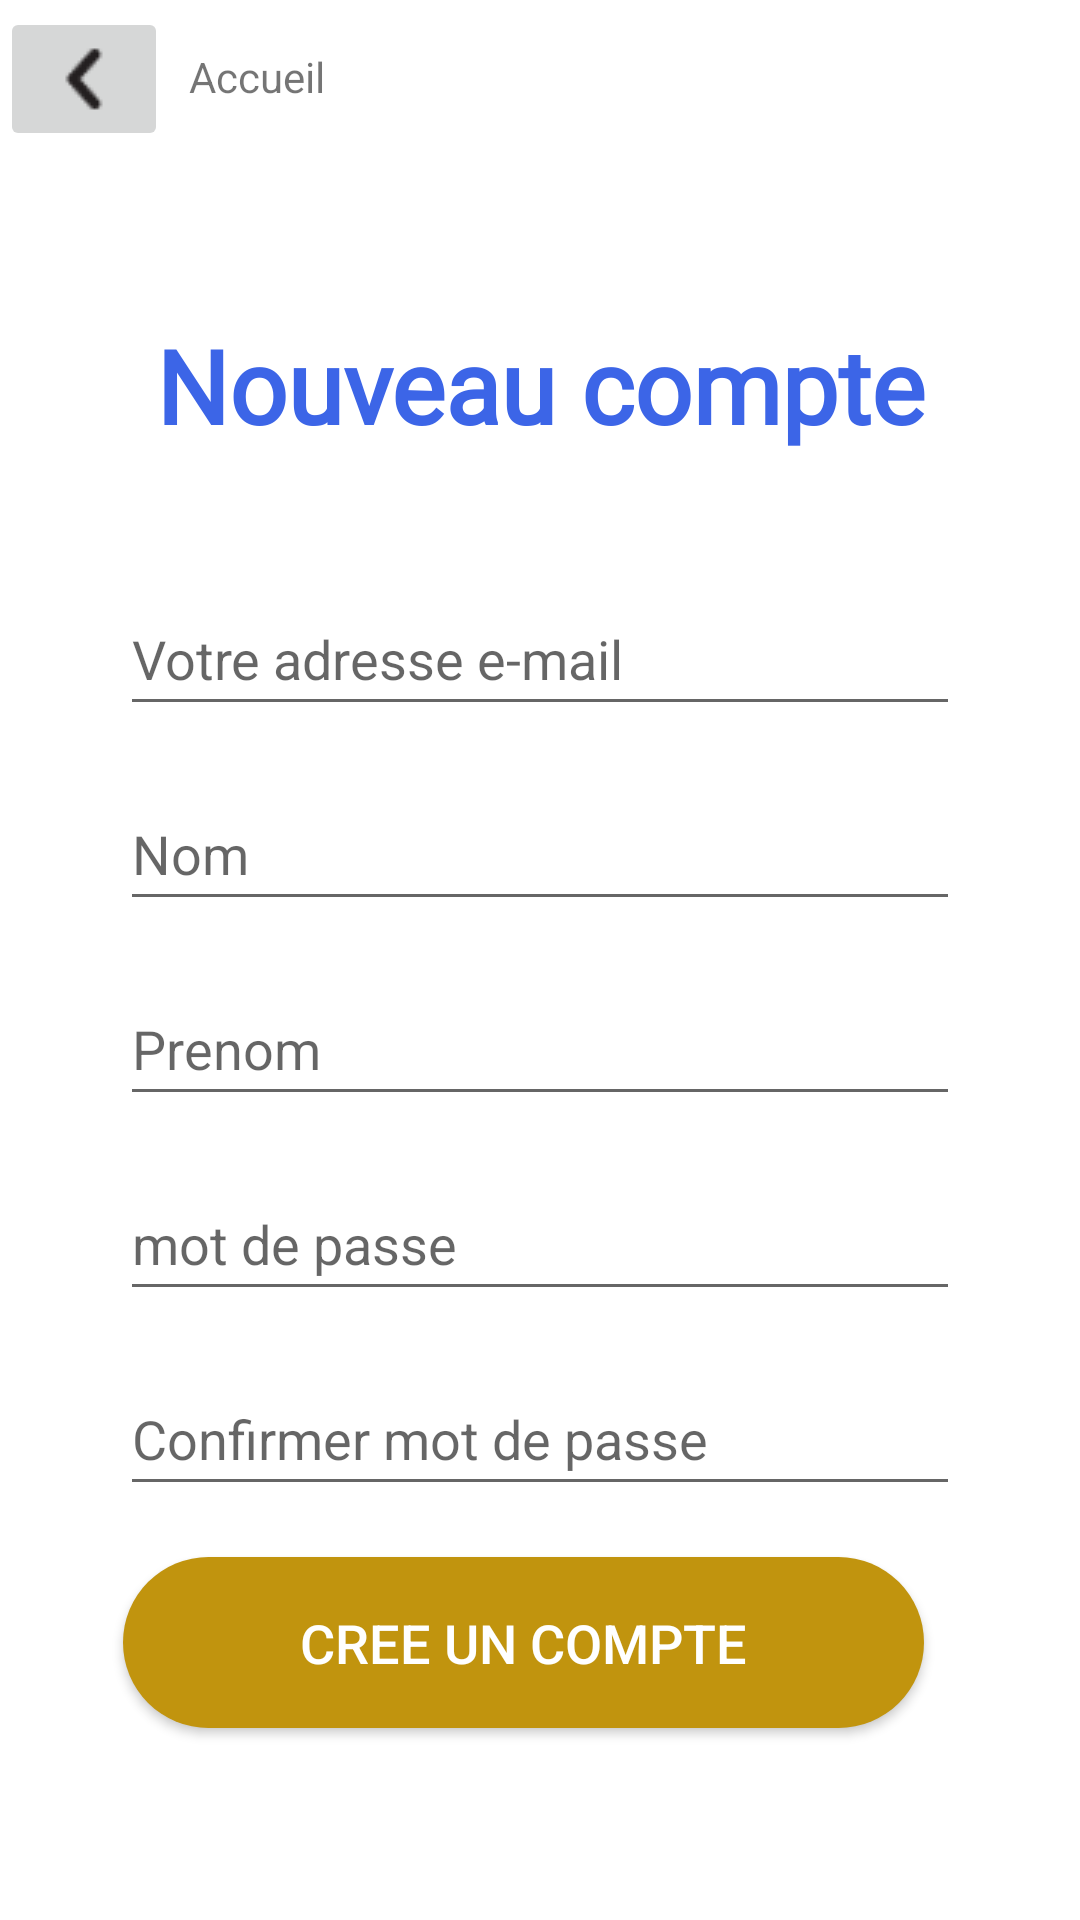

Named icons in this screenshot (1080×1920) and their bounding boxes, (x1, y1, x2, y2):
left: (12, 25, 156, 133)
